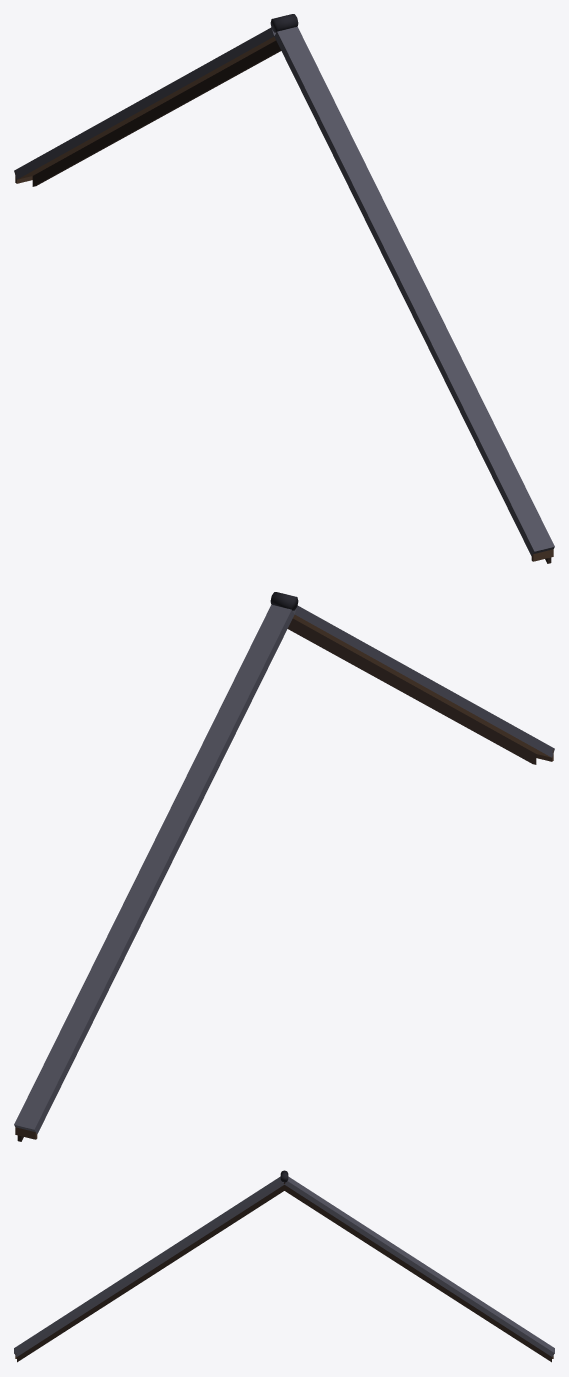
File: kit_stone_slate_w9_end.glb
3 renders of one model, top to bottom at view 1: azimuth 30°, elevation 25°; view 2: azimuth 150°, elevation 25°; view 3: azimuth 270°, elevation 25°, orthographic. The views are drawn at different scales.
Parts seen in each view (by area): view 1: kit_stone_slate_w9_end; view 2: kit_stone_slate_w9_end; view 3: kit_stone_slate_w9_end.
Boxes of the visible parts, x1,y1,x2,y2 form: kit_stone_slate_w9_end: (14,14,554,563); kit_stone_slate_w9_end: (14,592,554,1141); kit_stone_slate_w9_end: (14,1170,554,1362).
Size of the model in its own units: 0.22 by 3.71 by 9.7.
